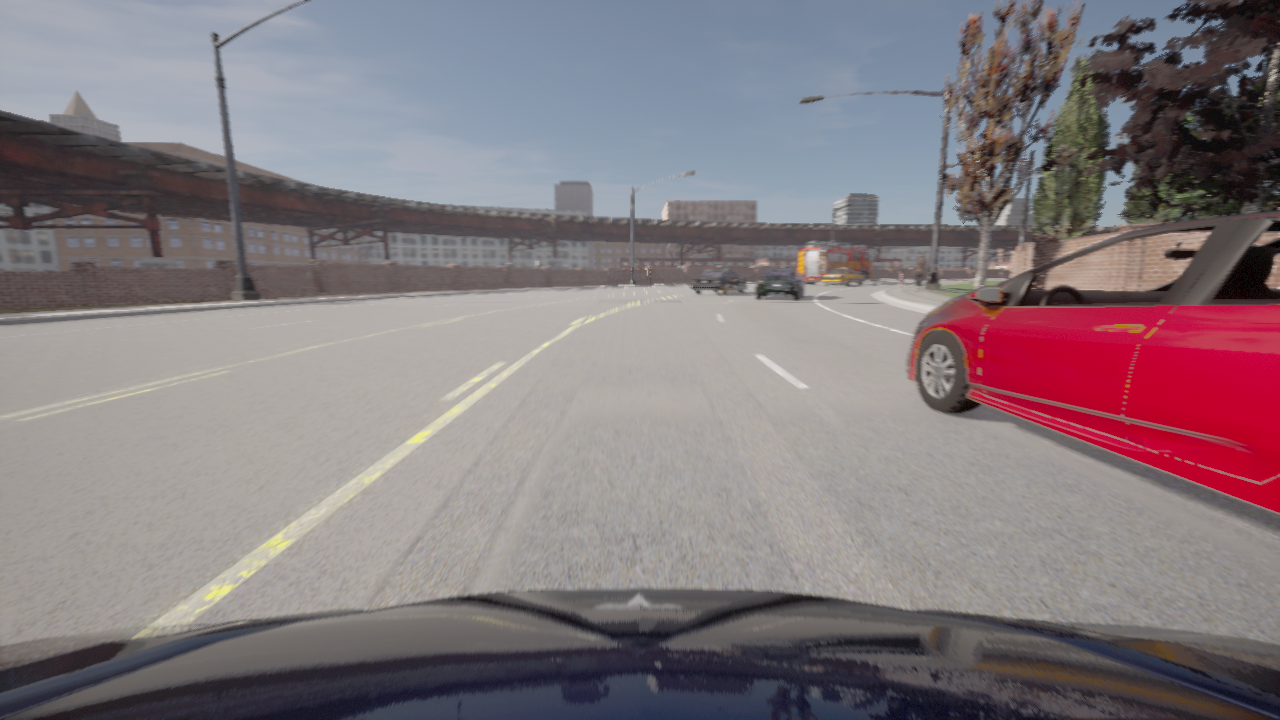cyclist: (0, 588, 1279, 719), (907, 210, 1279, 513), (797, 241, 871, 284), (755, 269, 803, 299), (690, 269, 746, 294), (821, 266, 862, 286)
pedestrian: (913, 254, 926, 292)
